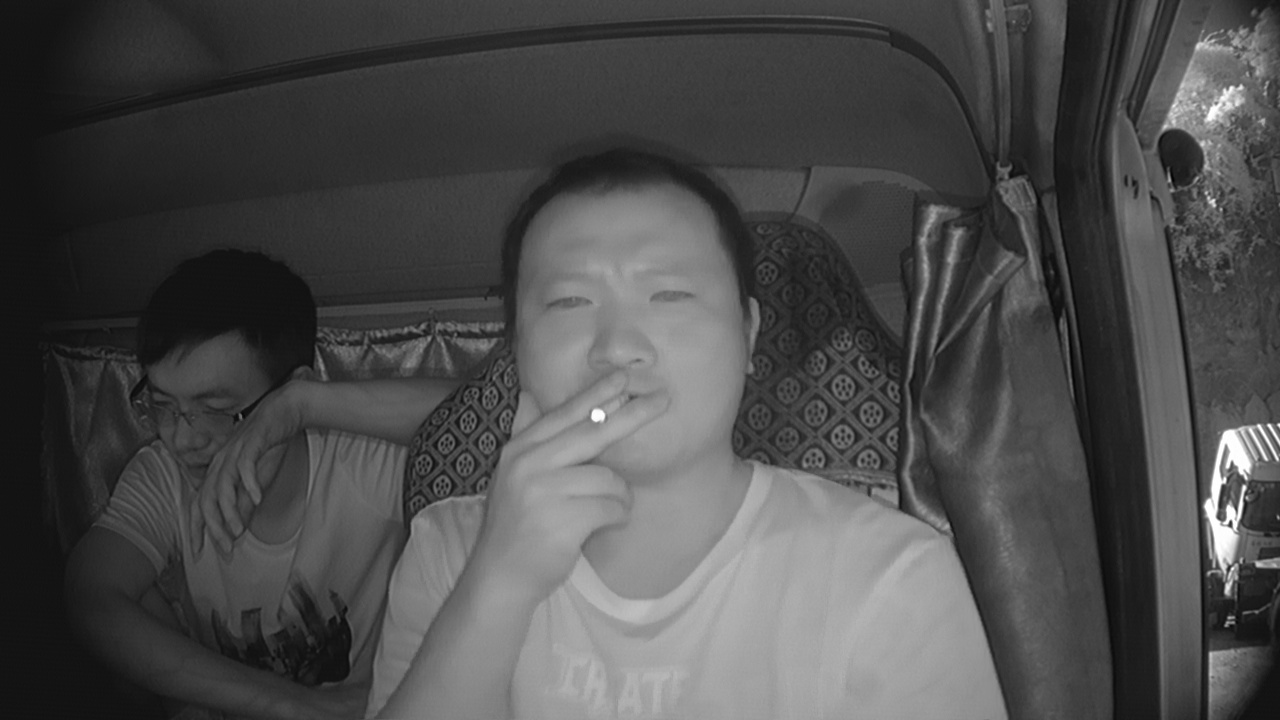hand: (510, 380, 662, 557)
